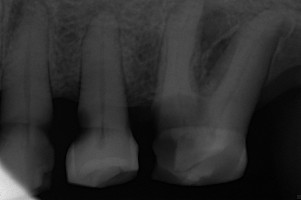Endo-Periodontal Lesion: (196, 13, 235, 86)
